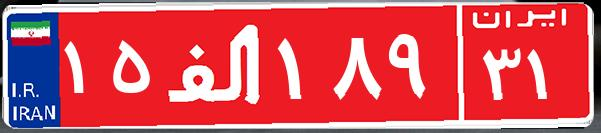1: (273, 28, 330, 110), (57, 26, 110, 107), (525, 38, 570, 115)
3: (475, 38, 525, 113)
5: (110, 28, 158, 105)
8: (330, 28, 385, 110)
9: (385, 28, 445, 110)
الف: (158, 15, 273, 115)
